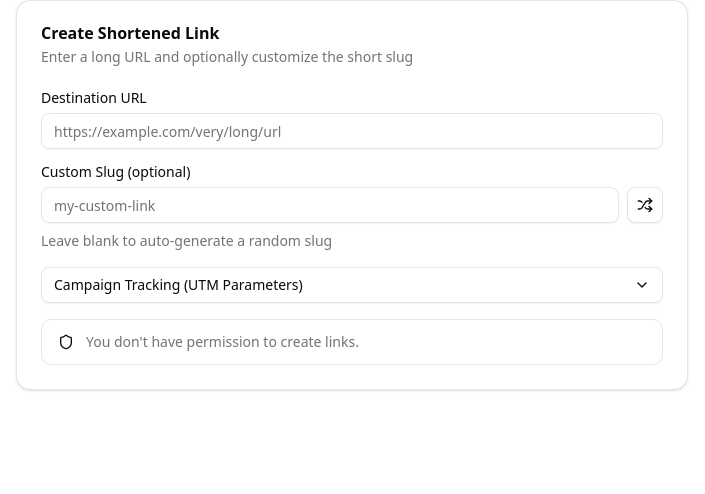
it: LinkForm Component › should show preview of short link
This screenshot has width=705, height=494.
Type "my-link" into the field labelled "Custom Slug (optional)" at {"x": 330, "y": 205}, box [41, 187, 619, 223]
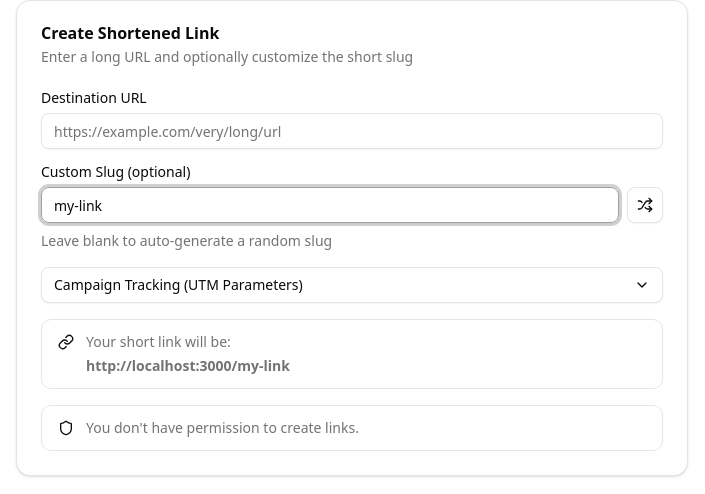
Now the text "http://localhost:3000/my-link" is shown, box [86, 356, 290, 376]
